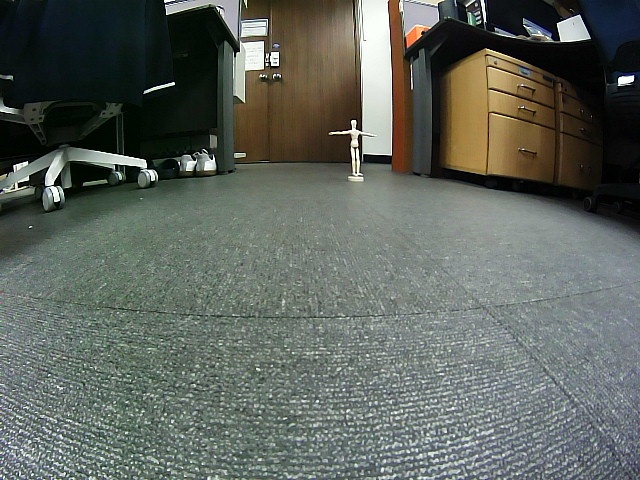person: (328, 119, 377, 177)
